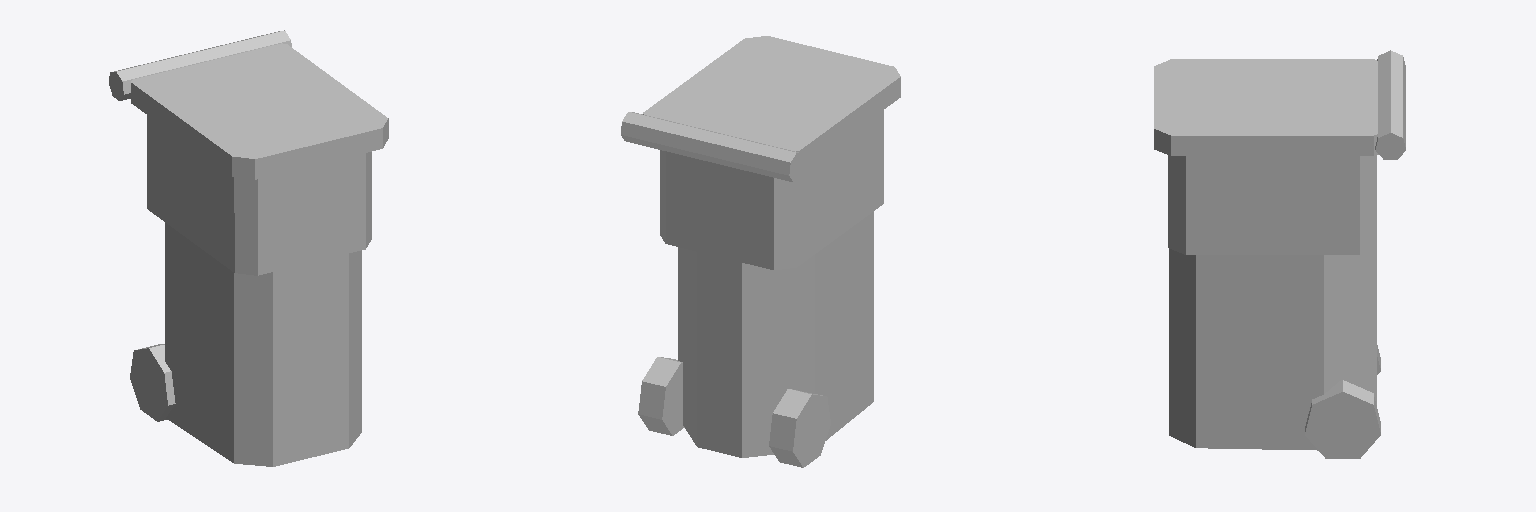
File: bin-recycle.obj
3 views of the same model, side by side, from view 1: azimuth 30°, elevation 25°; view 2: azimuth 150°, elevation 25°; view 3: azimuth 270°, elevation 25° (orthographic).
Visible parts, largest first — view 1: bin-recycle; view 2: bin-recycle; view 3: bin-recycle.
Part boxes in pixels (x1,y1,x2,y2): bin-recycle: (109,30,388,466); bin-recycle: (621,36,900,467); bin-recycle: (1154,50,1405,458).
Size of the model in its own units: 0.5738 by 1.07 by 0.7434.